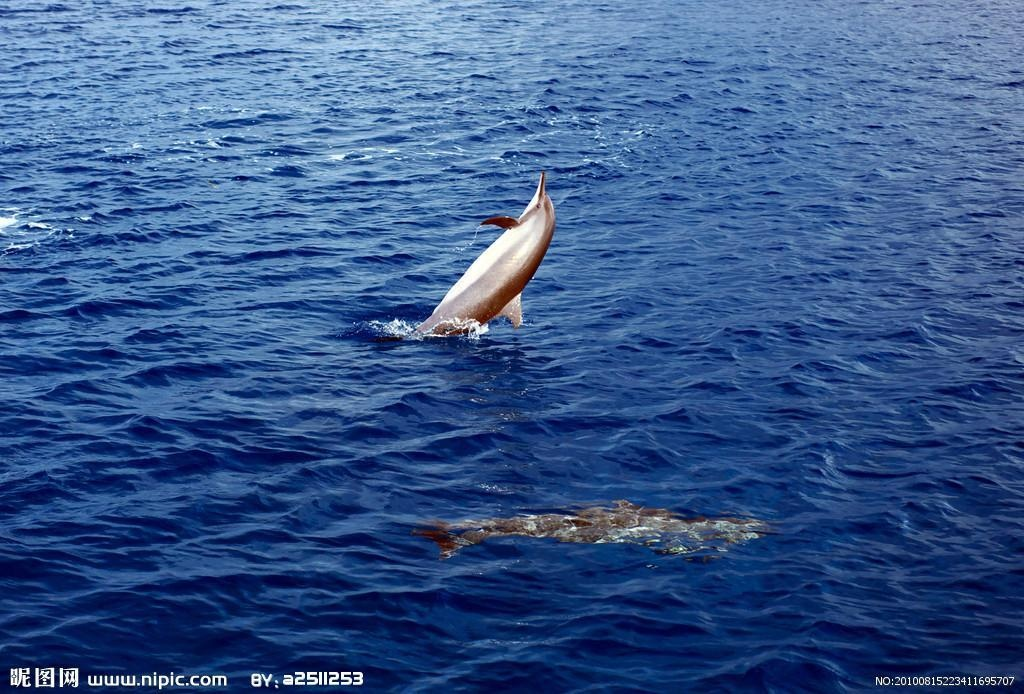fish: (411, 172, 566, 344)
